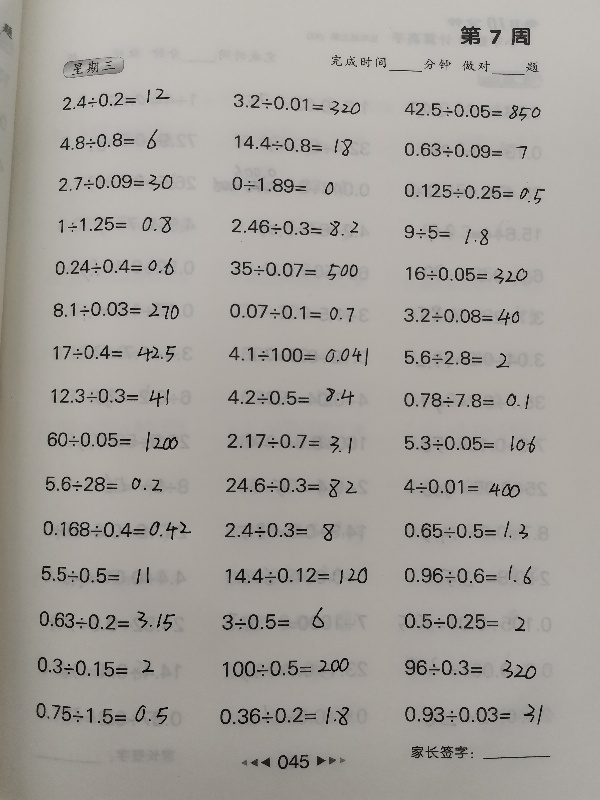equation: (52, 207, 181, 240), (401, 656, 543, 685), (44, 429, 185, 458), (39, 517, 194, 543), (39, 470, 175, 499), (35, 607, 178, 634), (401, 703, 548, 729), (226, 344, 373, 370), (32, 700, 171, 727), (222, 473, 360, 500), (400, 180, 548, 205), (216, 703, 353, 730), (400, 560, 534, 587), (46, 340, 180, 367), (401, 610, 530, 638), (223, 564, 372, 588), (219, 605, 337, 635), (401, 432, 541, 457), (400, 516, 531, 542), (218, 655, 352, 680), (227, 258, 361, 283), (228, 173, 347, 201), (49, 297, 182, 322), (223, 429, 355, 454), (401, 99, 544, 122), (397, 220, 505, 250), (37, 562, 161, 588), (401, 347, 525, 373), (228, 215, 361, 239), (225, 386, 363, 409), (222, 519, 344, 545), (52, 255, 178, 280), (230, 133, 356, 158), (47, 384, 172, 409), (399, 389, 533, 412), (230, 93, 364, 116), (33, 655, 160, 679), (57, 125, 162, 154), (225, 301, 357, 324), (55, 170, 176, 195), (400, 139, 530, 162), (402, 263, 531, 286), (400, 476, 523, 499), (400, 305, 523, 328), (59, 88, 173, 110)
